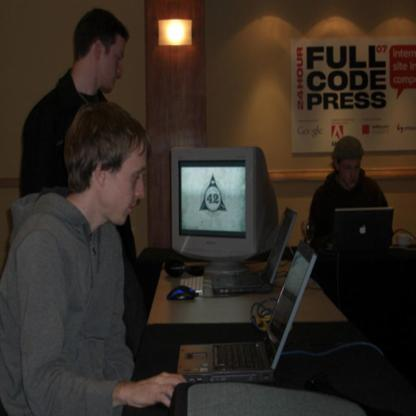board: (177, 242, 318, 385), (212, 208, 296, 294), (331, 208, 393, 252)
